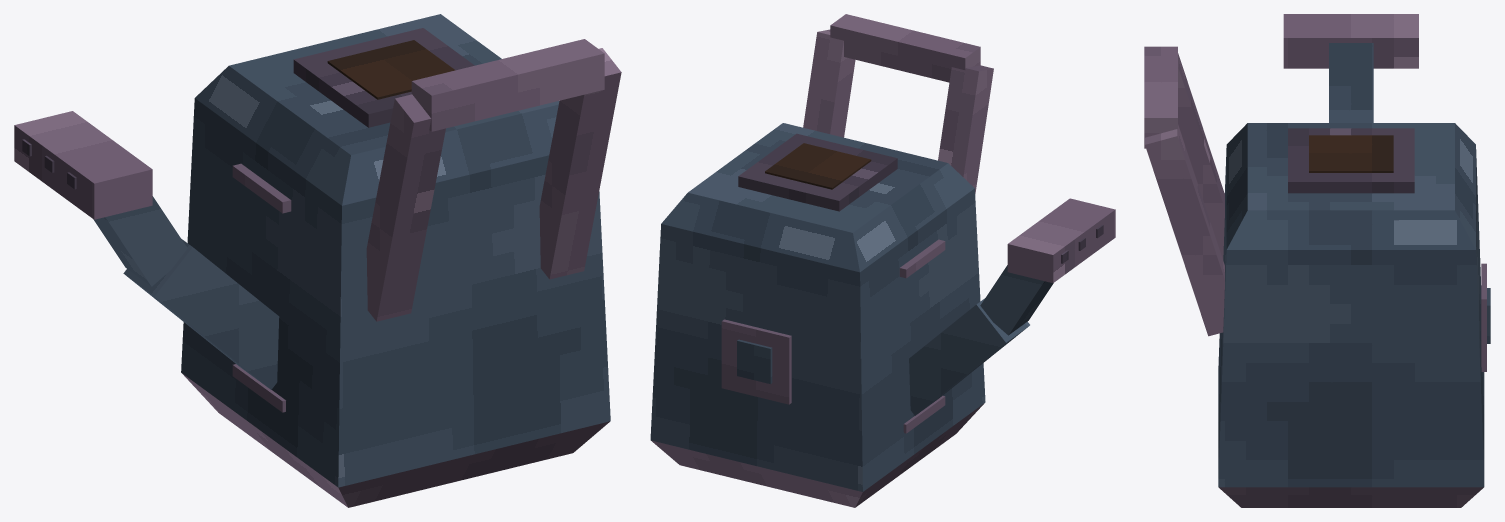
The model's file is watering_can.obj.
3 renders of one model, left to right at view 1: azimuth 30°, elevation 25°; view 2: azimuth 150°, elevation 25°; view 3: azimuth 270°, elevation 25°, orthographic. The views are drawn at different scales.
Parts seen in each view (by area): view 1: model; view 2: model; view 3: model.
Part boxes in pixels (x1=…): model: x1=14, y1=14, x2=621, y2=507; model: x1=650, y1=14, x2=1115, y2=507; model: x1=1144, y1=14, x2=1490, y2=507.
Bounding box in the file's own units: 0.6937 × 0.6187 × 0.5125.
